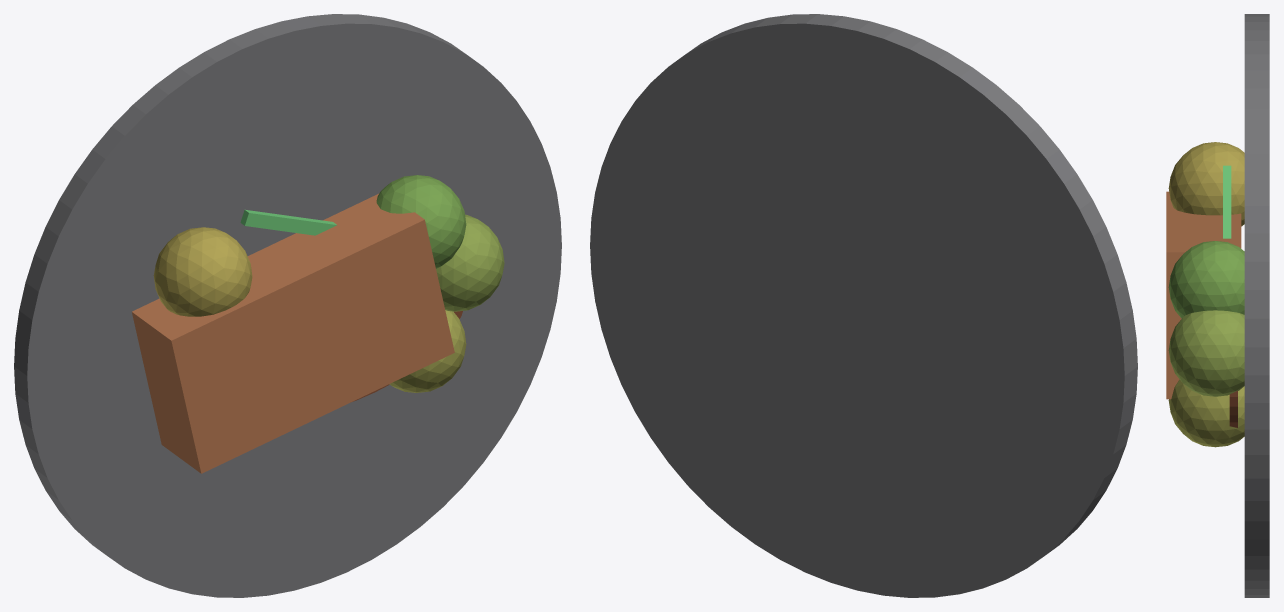
The model's file is ember-signature-plate.glb.
The picture shows the model from 3 angles, left to right: view 1: azimuth 30°, elevation 25°; view 2: azimuth 150°, elevation 25°; view 3: azimuth 270°, elevation 25°; orthographic projection. The views are drawn at different scales.
Visible parts, largest first — view 1: Plate, SeasonalProtein, CharredVegetables_4, CharredVegetables, CharredVegetables_2, CharredVegetables_3, HerbOil; view 2: Plate; view 3: Plate, CharredVegetables_2, CharredVegetables, CharredVegetables_4, SeasonalProtein, CharredVegetables_3, HerbOil, HouseJus.
Part boxes in pixels (x1,y1,x2,y2): Plate: (14,14,561,597); SeasonalProtein: (132,193,454,473); CharredVegetables_4: (153,227,252,316); CharredVegetables: (376,175,466,268); CharredVegetables_2: (436,214,504,311); CharredVegetables_3: (389,310,466,392); HerbOil: (240,209,336,235); Plate: (590,14,1137,597); Plate: (1244,14,1269,597); CharredVegetables_2: (1168,310,1244,396); CharredVegetables: (1168,241,1244,318); CharredVegetables_4: (1168,142,1244,226); SeasonalProtein: (1166,191,1241,399); CharredVegetables_3: (1168,379,1244,447); HerbOil: (1223,165,1231,238); HouseJus: (1229,390,1237,427).
Size of the model in its own units: 3.5 by 3.5 by 0.62.
